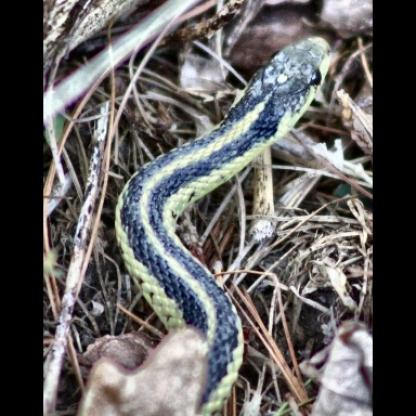Snake: (104, 30, 344, 376)
